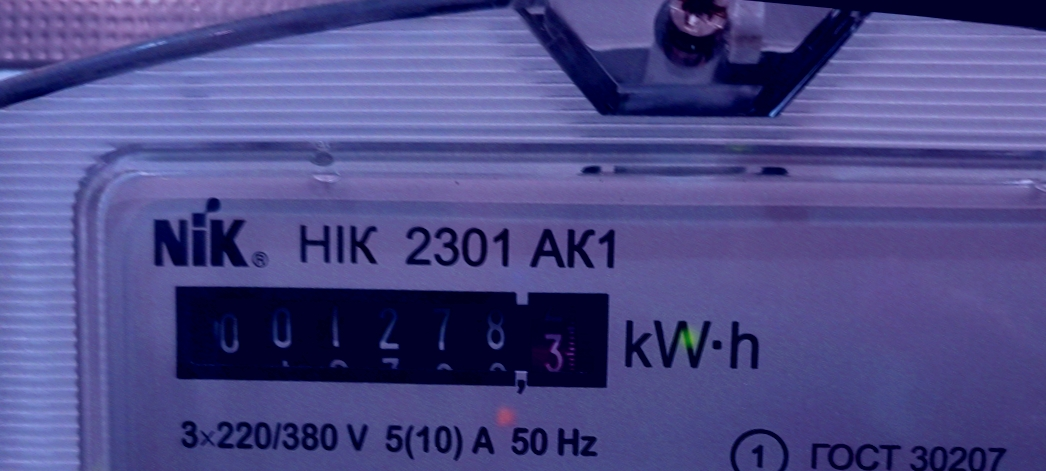0: (213, 304, 244, 354), (265, 300, 295, 349)
1: (323, 298, 346, 347)
2: (372, 302, 403, 351), (539, 300, 564, 321)
3: (536, 327, 567, 373)
7: (425, 301, 451, 350)
8: (480, 303, 508, 349)
screen: (151, 239, 631, 429)
